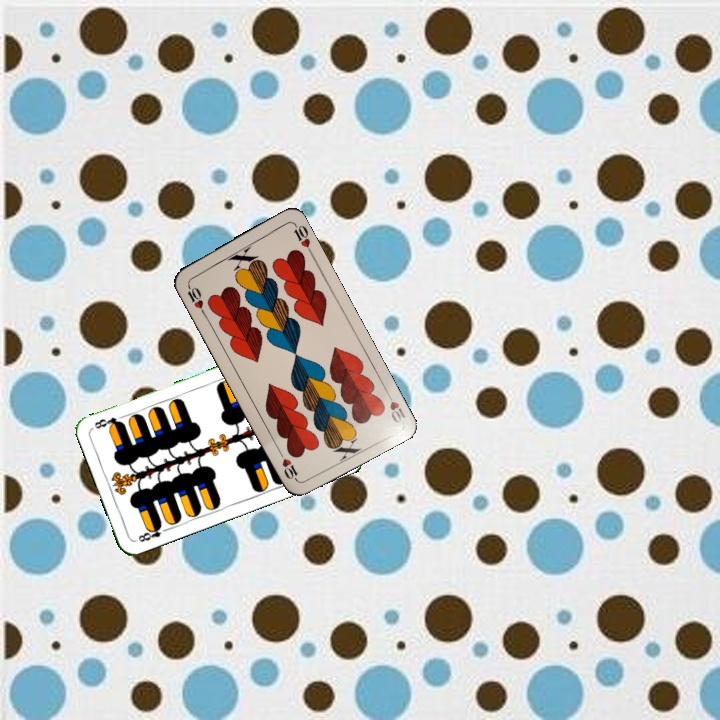E8: (132, 520, 171, 545)
H10: (381, 386, 408, 425), (183, 279, 208, 317)
